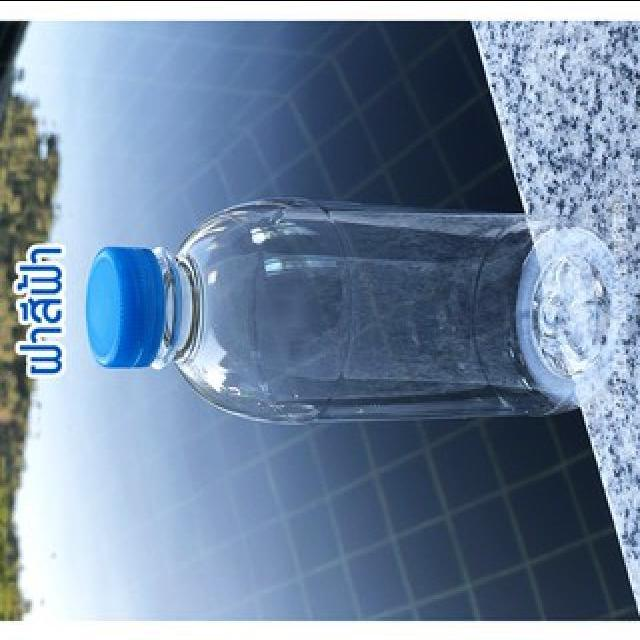cap: (82, 240, 168, 374)
not-crumbled: (80, 185, 635, 432)
